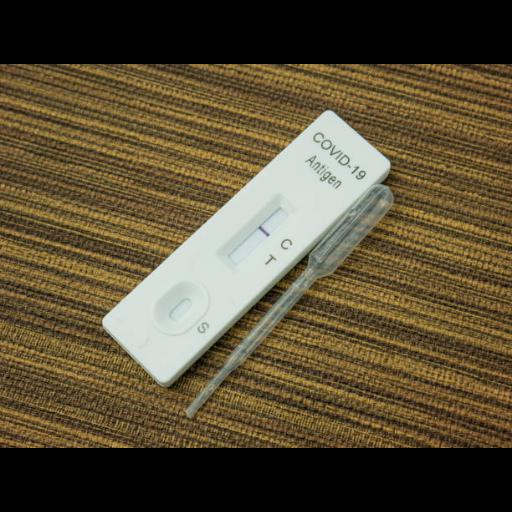Neg: (100, 107, 394, 388)
